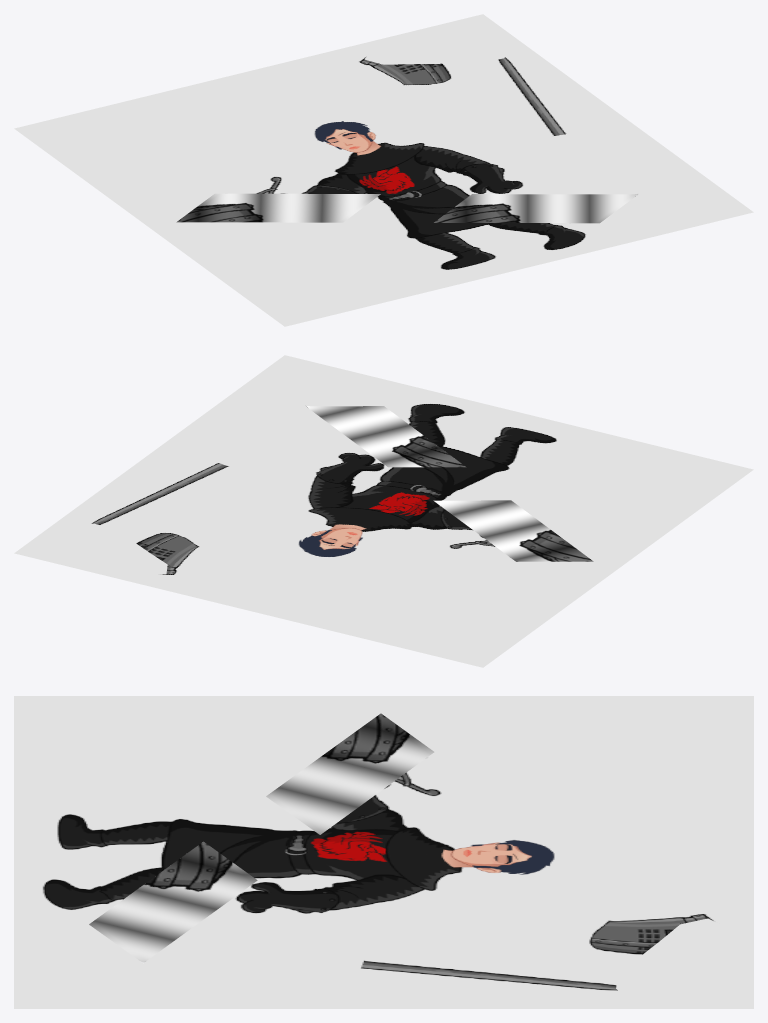
File: Level 106 Unroll satellite solar panels.fbx
3 views of the same model, one above another, from view 1: azimuth 30°, elevation 25°; view 2: azimuth 150°, elevation 25°; view 3: azimuth 270°, elevation 25° (orthographic). The views are drawn at different scales.
Visible parts, largest first — view 1: Mesh, Blend, Blend1; view 2: Mesh, Blend1, Blend; view 3: Mesh, Blend1, Blend.
Part boxes in pixels (box(x1,y1,x2,y2)): Mesh: box(14, 14, 753, 326); Blend: box(176, 193, 380, 222); Blend1: box(434, 194, 637, 223); Mesh: box(14, 355, 753, 667); Blend1: box(306, 406, 466, 467); Blend: box(433, 500, 593, 561); Mesh: box(14, 696, 753, 1008); Blend1: box(89, 841, 257, 962); Blend: box(266, 713, 434, 834).
Bounding box in the file's own units: 2400 × 4.15 × 2400.
